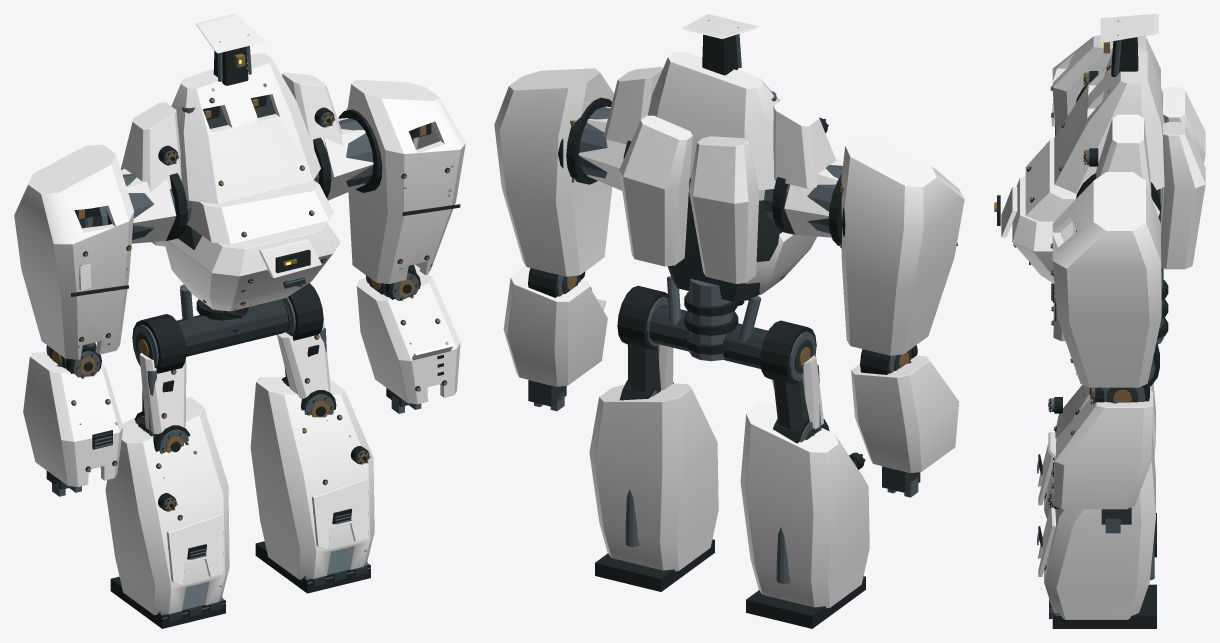
Rendered from boxguard-01-v3.glb.
3 views of the same model, side by side, from view 1: azimuth 30°, elevation 25°; view 2: azimuth 150°, elevation 25°; view 3: azimuth 270°, elevation 25° (orthographic). The views are drawn at different scales.
Parts seen in each view (by area): view 1: PLATE_upper_arm.R, PLATE_shin.L, PLATE_shin.R, PLATE_upper_arm.L, PLATE_chest_upper, PLATE_forearm.R, PLATE_chest_lower, PLATE_forearm.L, PLATE_chest_transom, CORE_pelvis, PLATE_riser.R, CORE_thigh.R (+17 smaller); view 2: PLATE_upper_arm.R, PLATE_shin.R, PLATE_shin.L, PLATE_upper_arm.L, PLATE_forearm.R, PLATE_chest_upper, PLATE_forearm.L, PLATE_back.L, PLATE_back.R, CORE_pelvis, PLATE_riser.R, CORE_thigh.R (+19 smaller); view 3: PLATE_upper_arm.L, PLATE_shin.L, PLATE_forearm.L, PLATE_chest_upper, PLATE_back.L, PLATE_upper_arm.R, PLATE_chest_lower, PLATE_riser.L, PLATE_chest_transom, PLATE_shin.R, CORE_foot.L, PLATE_back.R (+7 smaller).
Boxes of the visible parts, bbox=[...] form: PLATE_upper_arm.R: bbox=[14, 144, 134, 359]; PLATE_shin.L: bbox=[250, 377, 374, 579]; PLATE_shin.R: bbox=[105, 397, 229, 614]; PLATE_upper_arm.L: bbox=[347, 80, 465, 283]; PLATE_chest_upper: bbox=[171, 53, 320, 203]; PLATE_forearm.R: bbox=[23, 351, 123, 486]; PLATE_chest_lower: bbox=[164, 221, 340, 311]; PLATE_forearm.L: bbox=[356, 264, 460, 404]; PLATE_chest_transom: bbox=[187, 180, 333, 244]; CORE_pelvis: bbox=[177, 284, 288, 356]; PLATE_riser.R: bbox=[121, 102, 181, 192]; CORE_thigh.R: bbox=[132, 314, 186, 436]; PLATE_upper_arm.R: bbox=[841, 135, 964, 355]; PLATE_shin.R: bbox=[740, 405, 869, 608]; PLATE_shin.L: bbox=[589, 383, 718, 571]; PLATE_upper_arm.L: bbox=[494, 68, 613, 276]; PLATE_forearm.R: bbox=[851, 355, 959, 472]; PLATE_chest_upper: bbox=[647, 51, 780, 190]; PLATE_forearm.L: bbox=[503, 266, 607, 386]; PLATE_back.L: bbox=[619, 115, 692, 266]; PLATE_back.R: bbox=[689, 136, 759, 283]; CORE_pelvis: bbox=[649, 276, 767, 368]; PLATE_riser.R: bbox=[773, 98, 836, 188]; CORE_thigh.R: bbox=[760, 320, 821, 431]; PLATE_upper_arm.L: bbox=[1050, 172, 1161, 387]; PLATE_shin.L: bbox=[1037, 431, 1155, 619]; PLATE_forearm.L: bbox=[1048, 391, 1153, 509]; PLATE_chest_upper: bbox=[1054, 51, 1164, 193]; PLATE_back.L: bbox=[1160, 122, 1205, 269]; PLATE_upper_arm.R: bbox=[1050, 35, 1160, 135]; PLATE_chest_lower: bbox=[993, 176, 1054, 283]; PLATE_riser.L: bbox=[1083, 114, 1151, 195]; PLATE_chest_transom: bbox=[1025, 138, 1076, 221]; PLATE_shin.R: bbox=[1037, 383, 1155, 518]; CORE_foot.L: bbox=[1049, 584, 1156, 628]; PLATE_back.R: bbox=[1160, 87, 1205, 223].
Bounding box in the file's own units: 2.59 × 3.27 × 1.14.
